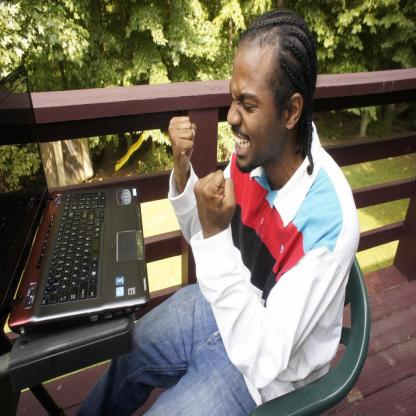board: (1, 162, 151, 359)
